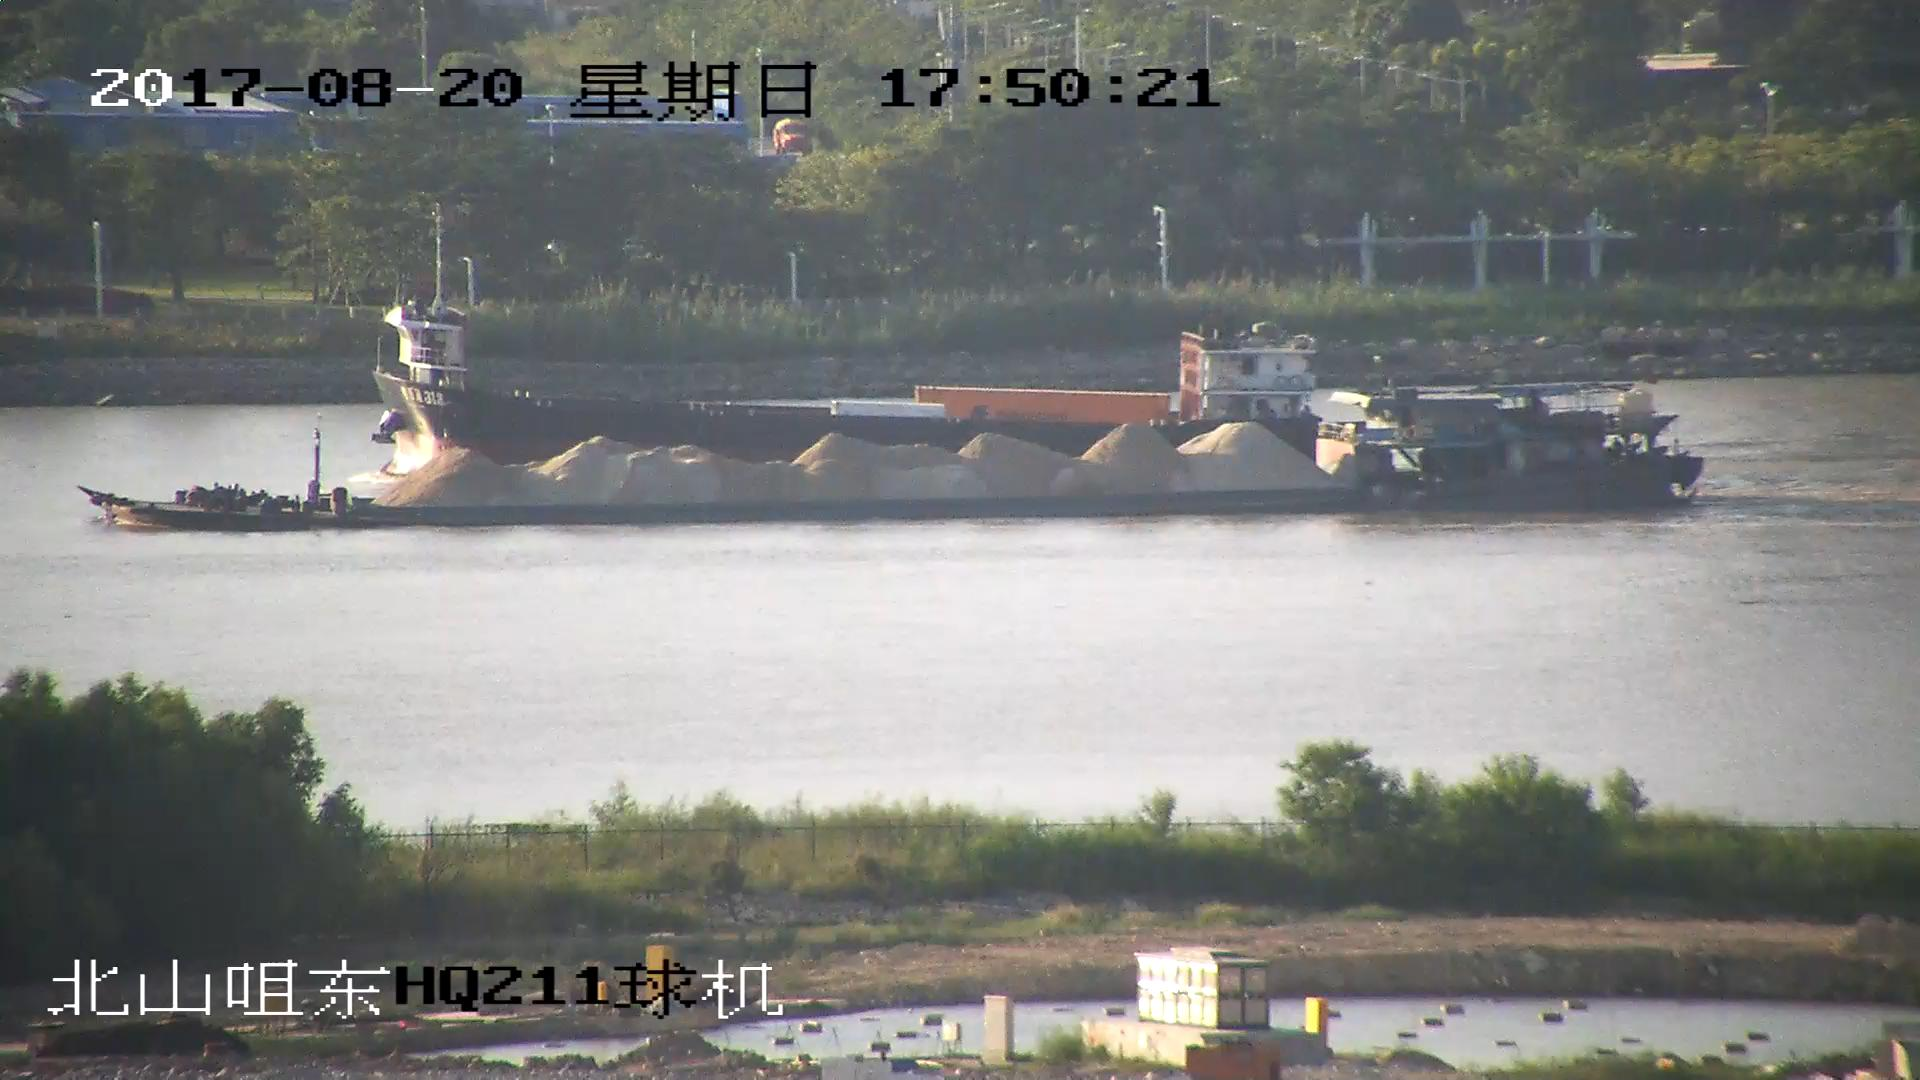general cargo ship: (361, 201, 1331, 476)
ore carrier: (82, 397, 1714, 525)
